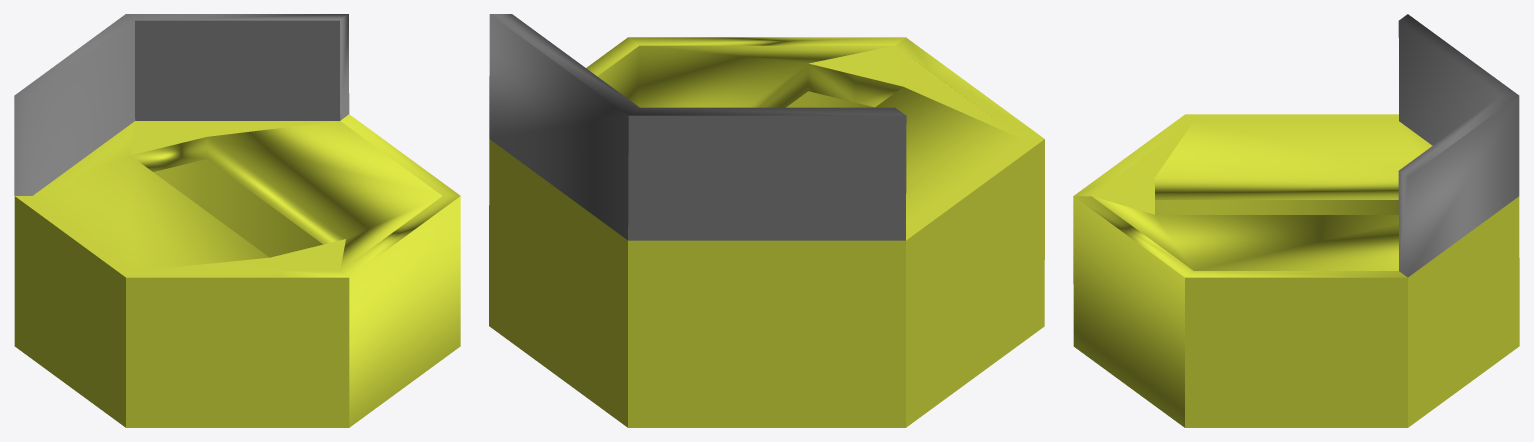
Rendered from ResourceTileStage2_4.fbx.
The picture shows the model from 3 angles, left to right: view 1: azimuth 30°, elevation 25°; view 2: azimuth 150°, elevation 25°; view 3: azimuth 270°, elevation 25°; orthographic projection. The views are drawn at different scales.
Visible parts, largest first — view 1: ResourceTileStage2_4; view 2: ResourceTileStage2_4; view 3: ResourceTileStage2_4.
Boxes of the visible parts, <box> form: ResourceTileStage2_4: <box>14,14,460,427</box>; ResourceTileStage2_4: <box>489,14,1044,427</box>; ResourceTileStage2_4: <box>1073,14,1519,427</box>.
Bounding box in the file's own units: 173 × 124 × 200.
